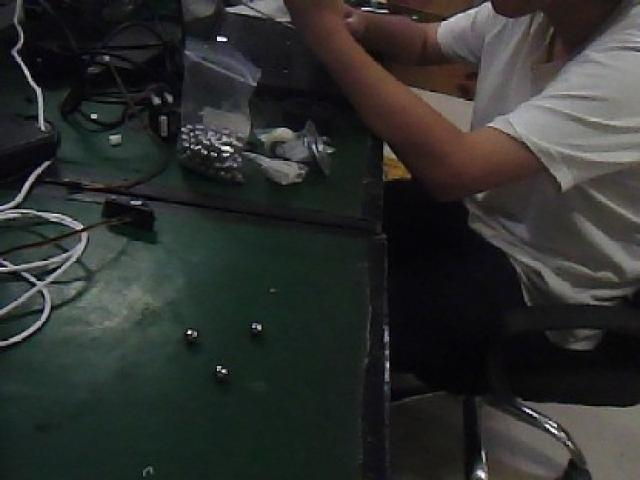steel-ball: (202, 352, 240, 390), (179, 314, 206, 349), (240, 308, 268, 339)
